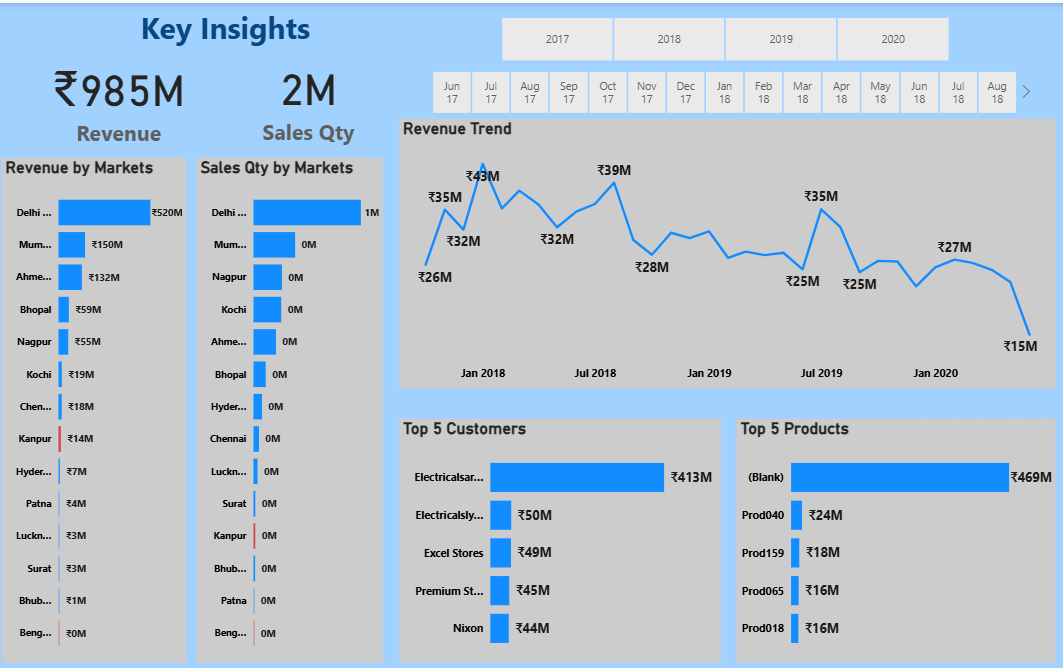

The page's visual inventory and layout, read from the dashboard file:
{"tool":"powerbi","page":{"name":"Key Insights","canvas":[1350,850],"ordinal":0},"visuals":[{"type":"card","fields":{"Values":["BaseMeasures (2).Revenue"]},"box":[39.4,45.1,247.9,150.2],"z":0},{"type":"card","fields":{"Values":["BaseMeasures (2).Sales Qty"]},"box":[287.3,45.1,227.2,148.3],"z":1000},{"type":"barChart","title":"Revenue by Markets","fields":{"Y":["BaseMeasures (2).Revenue"],"Category":["sales markets.markets_name"]},"box":[17.2,193.1,231.3,632.7],"z":2000},{"type":"barChart","title":"Sales Qty by Markets","fields":{"Y":["BaseMeasures (2).Sales Qty"],"Category":["sales markets.markets_name"]},"box":[261.9,193.1,233.2,632.7],"z":3000},{"type":"slicer","fields":{"Values":["sales date.year"]},"box":[617.8,11.3,608.4,67.6],"z":4000},{"type":"slicer","fields":{"Values":["sales date.cy_date"]},"box":[531.4,78.9,779.3,65.7],"z":5000},{"type":"barChart","title":"Top 5 Customers","fields":{"Y":["BaseMeasures (2).Revenue"],"Category":["sales customers.custmer_name"]},"box":[514.2,520,403.3,305.9],"z":6000},{"type":"barChart","title":"Top 5 Products","fields":{"Y":["BaseMeasures (2).Revenue"],"Category":["sales products.product_code"]},"box":[936.7,520,399.5,305.9],"z":7000},{"type":"lineChart","title":"Revenue Trend","fields":{"Y":["BaseMeasures (2).Revenue"],"Category":["sales date.cy_date"]},"box":[514.2,145.3,822,338.4],"z":8000},{"type":"textbox","box":[185.9,0,279.8,65.7],"z":8001}]}

Visuals, with their boxes in screenshot pixels (x1, y1, x2, y2), scaled from the page's 1350x850 canvas onto the 1063x668 screenshot:
card - BaseMeasures (2).Revenue: [left=31, top=35, right=226, bottom=153]
card - BaseMeasures (2).Sales Qty: [left=226, top=35, right=405, bottom=152]
"Revenue by Markets" barChart: [left=14, top=152, right=196, bottom=649]
"Sales Qty by Markets" barChart: [left=206, top=152, right=390, bottom=649]
slicer - sales date.year: [left=486, top=9, right=966, bottom=62]
slicer - sales date.cy_date: [left=418, top=62, right=1032, bottom=114]
"Top 5 Customers" barChart: [left=405, top=409, right=722, bottom=649]
"Top 5 Products" barChart: [left=738, top=409, right=1052, bottom=649]
"Revenue Trend" lineChart: [left=405, top=114, right=1052, bottom=380]
textbox: [left=146, top=0, right=367, bottom=52]
